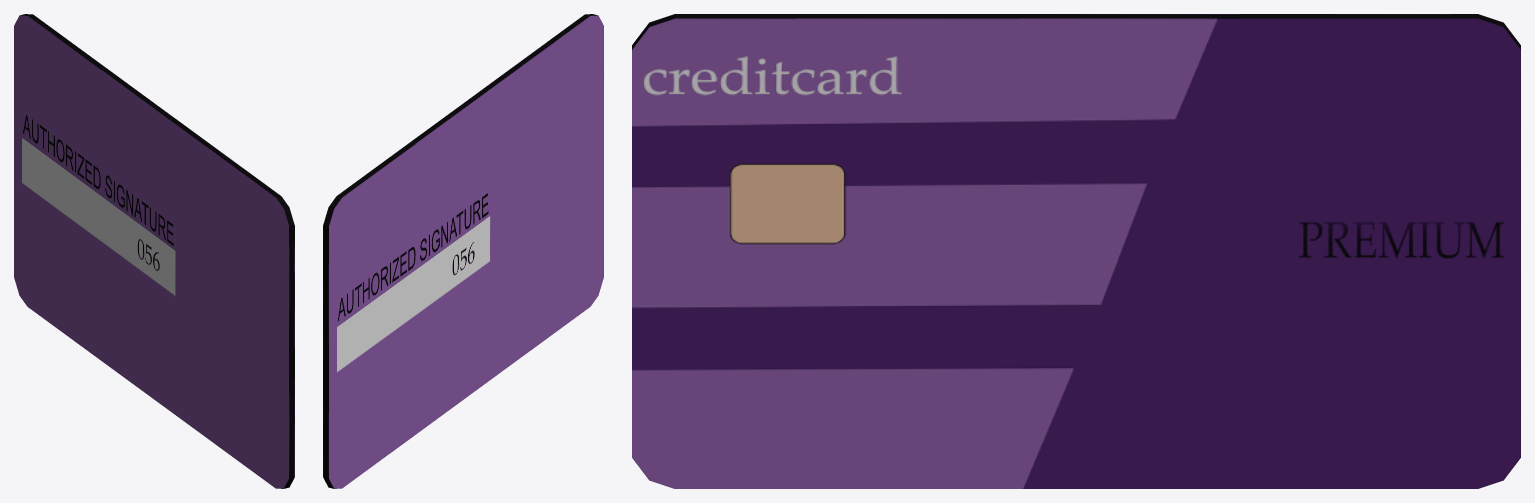
The model's file is model_CreditCard.glb.
The picture shows the model from 3 angles, left to right: view 1: azimuth 30°, elevation 25°; view 2: azimuth 150°, elevation 25°; view 3: azimuth 270°, elevation 25°; orthographic projection. The views are drawn at different scales.
Visible parts, largest first — view 1: Object_2; view 2: Object_2; view 3: Object_2.
Boxes of the visible parts, x1,y1,x2,y2 form: Object_2: (14,14,294,488); Object_2: (323,14,603,488); Object_2: (632,14,1520,488).
Bounding box in the file's own units: 0.00452 × 0.2135 × 0.3657.
1 material, 1 textured.
